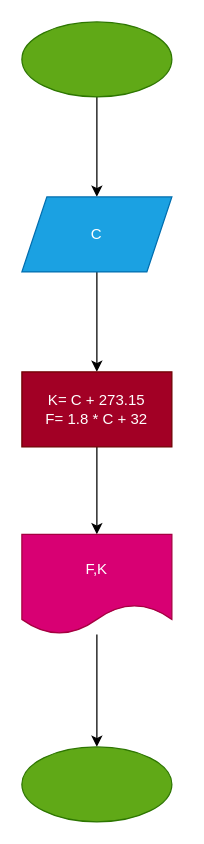
Image size: 204x844. Some labels were removed from this diagram. The shapes that lost their labels are listed below. From the top down, each one's centre as x and y in pixels, then its label:
At pixel 96 59: "Inicio".
At pixel 96 784: "Fin".
